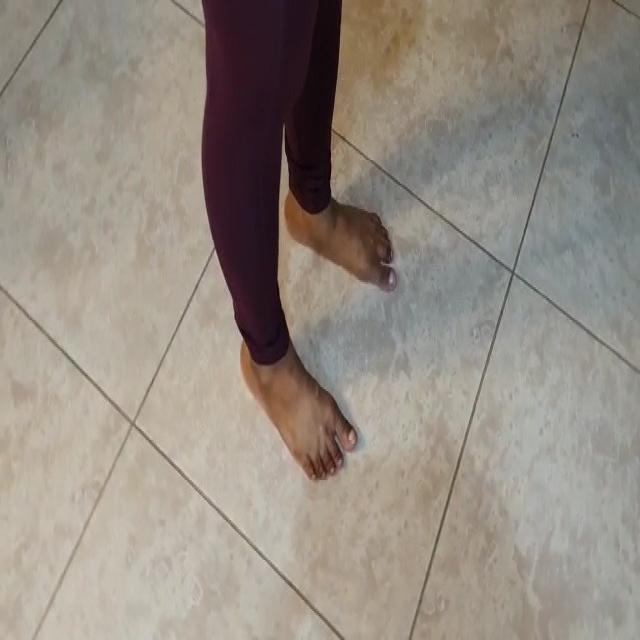no-boots: (231, 317, 366, 485), (284, 181, 408, 303)
